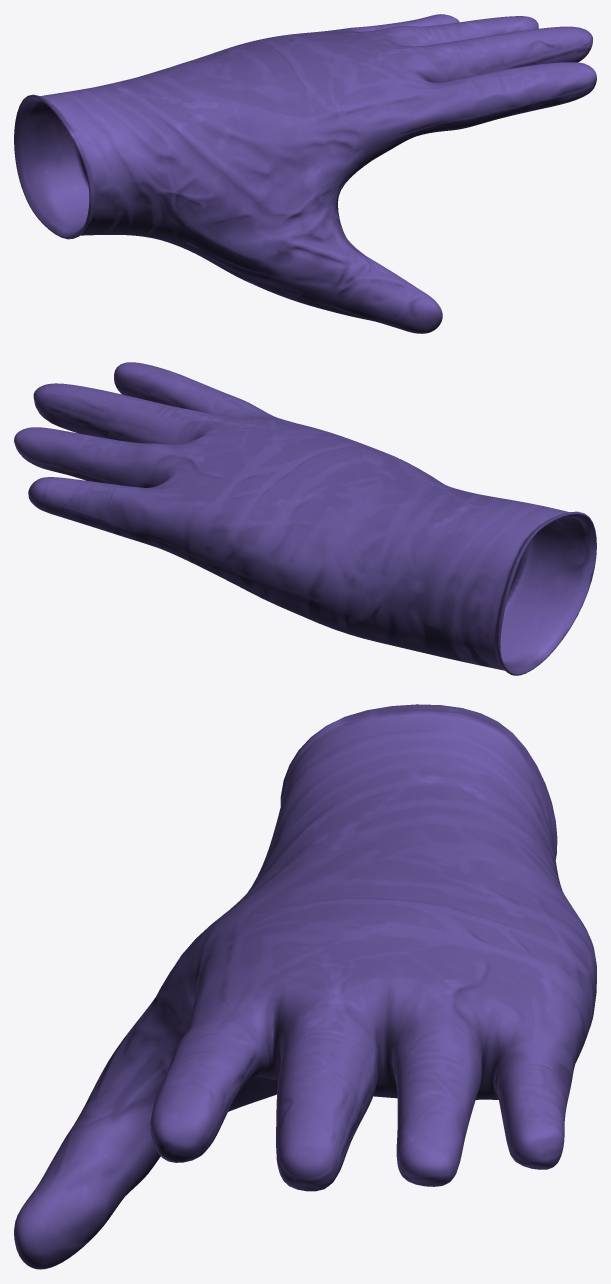
3 views of the same model, one above another, from view 1: azimuth 30°, elevation 25°; view 2: azimuth 150°, elevation 25°; view 3: azimuth 270°, elevation 25° (orthographic). The views are drawn at different scales.
Parts seen in each view (by area): view 1: Glove_Mid; view 2: Glove_Mid; view 3: Glove_Mid.
Boxes of the visible parts, left/top/right/bottom form: Glove_Mid: left=14, top=14, right=596, bottom=333; Glove_Mid: left=14, top=362, right=596, bottom=675; Glove_Mid: left=14, top=704, right=596, bottom=1269.
Bounding box in the file's own units: 0.2857 × 0.1115 × 0.1688.
1 material, 1 textured.
